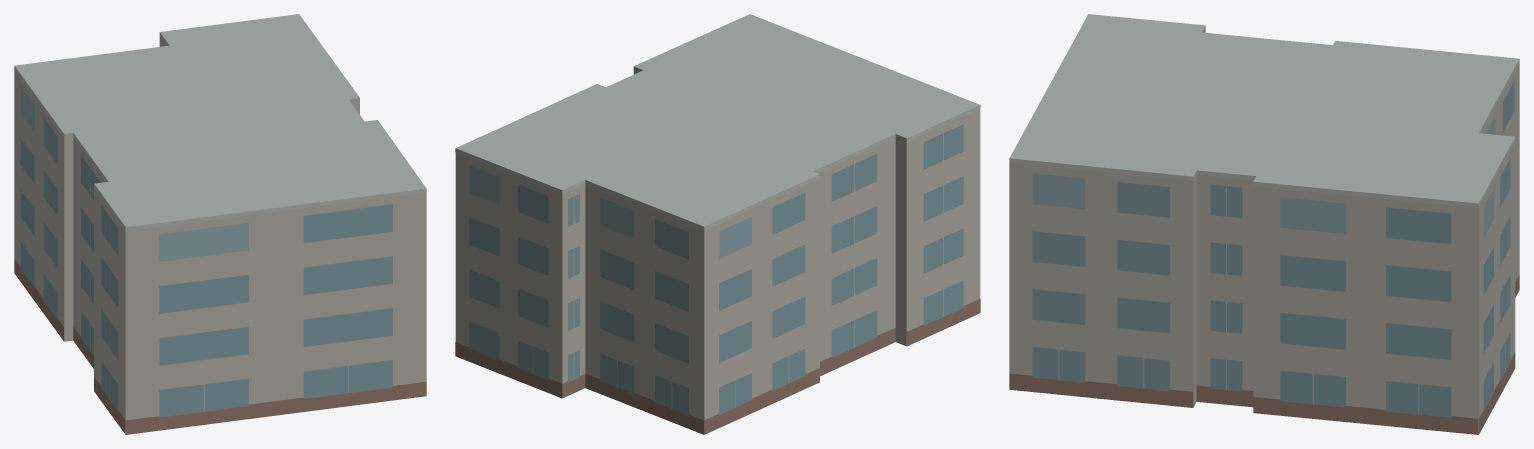
The model's file is survey-upis-32871056.glb.
3 renders of one model, left to right at view 1: azimuth 30°, elevation 25°; view 2: azimuth 150°, elevation 25°; view 3: azimuth 270°, elevation 25°, orthographic. The views are drawn at different scales.
Parts seen in each view (by area): view 1: survey-upis-32871056.tmp; view 2: survey-upis-32871056.tmp; view 3: survey-upis-32871056.tmp.
Part boxes in pixels (x1=…): survey-upis-32871056.tmp: x1=14, y1=14, x2=426, y2=434; survey-upis-32871056.tmp: x1=455, y1=14, x2=980, y2=434; survey-upis-32871056.tmp: x1=1009, y1=14, x2=1519, y2=434.
Bounding box in the file's own units: 21.61 × 12.3 × 24.59.
